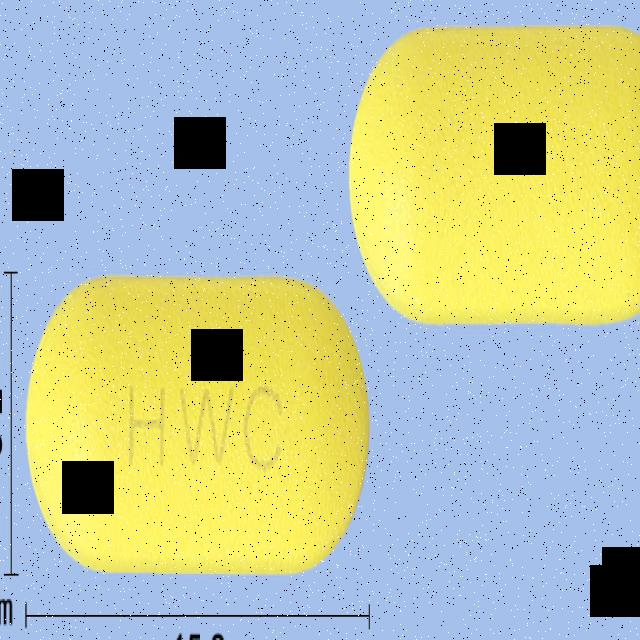Clacid - 250mg: (22, 264, 378, 588)
